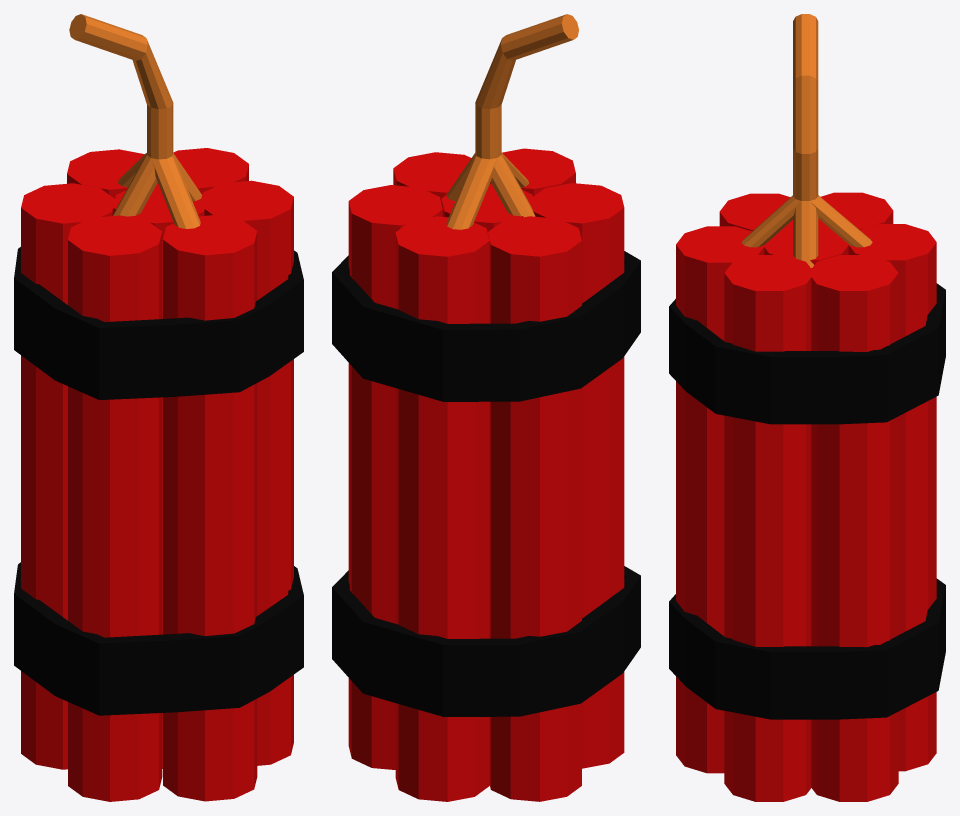
Rendered from Dynamite.fbx.
3 views of the same model, side by side, from view 1: azimuth 30°, elevation 25°; view 2: azimuth 150°, elevation 25°; view 3: azimuth 270°, elevation 25° (orthographic). The views are drawn at different scales.
Visible parts, largest first — view 1: Dynamite, Tape, Rope; view 2: Dynamite, Tape, Rope; view 3: Dynamite, Tape, Rope.
Boxes of the visible parts, x1,y1,x2,y2 form: Dynamite: (21,148,293,801); Tape: (14,247,303,715); Rope: (69,14,201,228); Dynamite: (348,148,624,801); Tape: (332,251,640,716); Rope: (446,14,578,229); Dynamite: (676,192,936,801); Tape: (669,283,945,719); Rope: (741,14,872,268).
Size of the model in its own units: 183 by 551 by 196.
